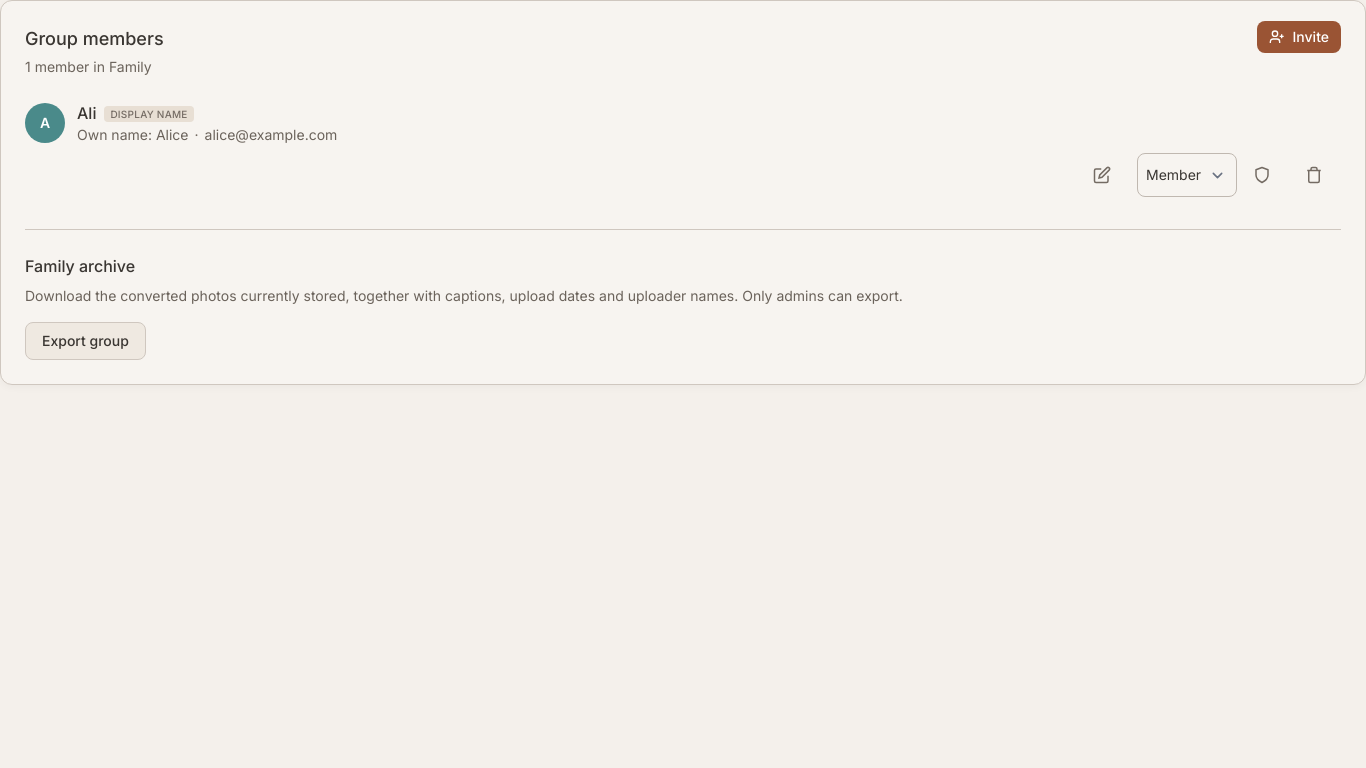
it: MembersList display names › clears the override from an empty field and restores the member’s own name
Check: the text "Ali" is shown, box [77,103,96,123]
Click the button named "Set Ali's display name in Family": (1107, 175) [1085,153,1129,197]
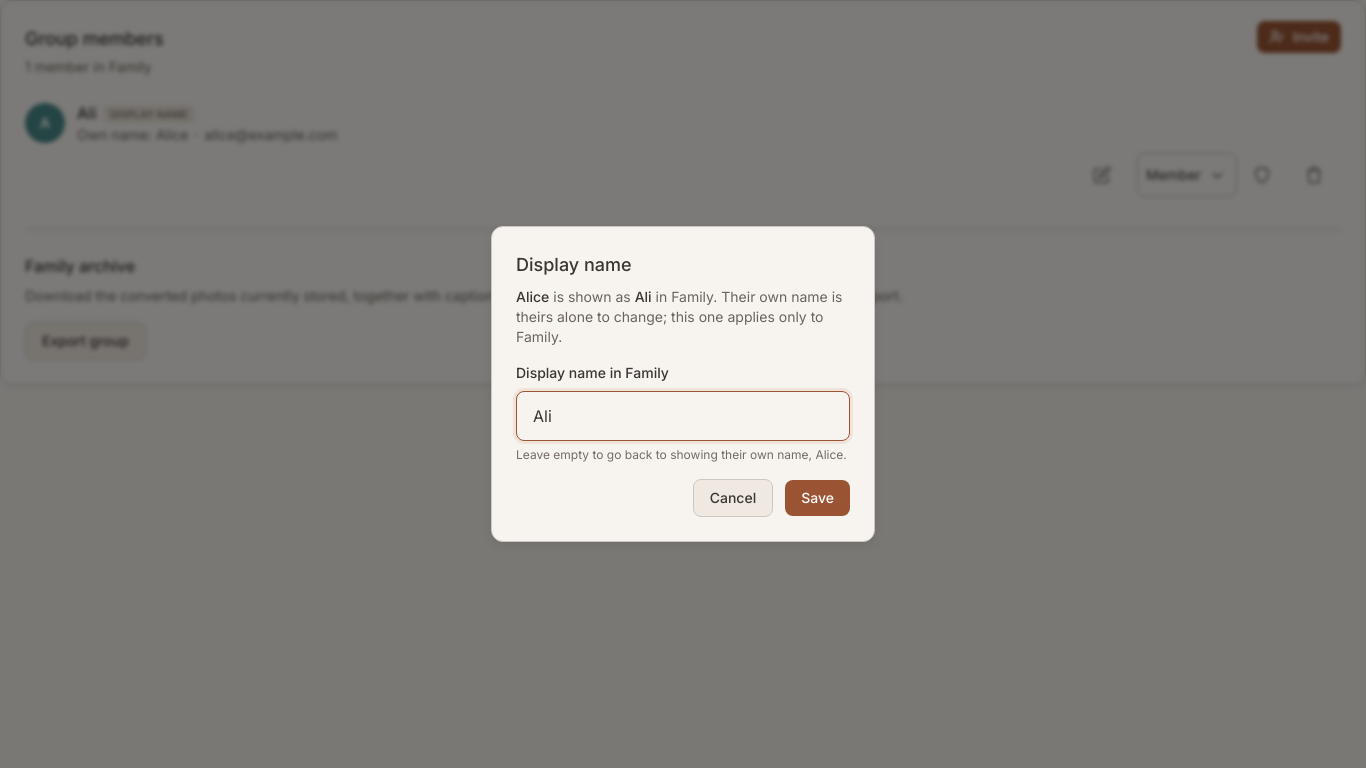
Clear the field labelled "Display name in Family": (683, 416) [516,391,850,441]
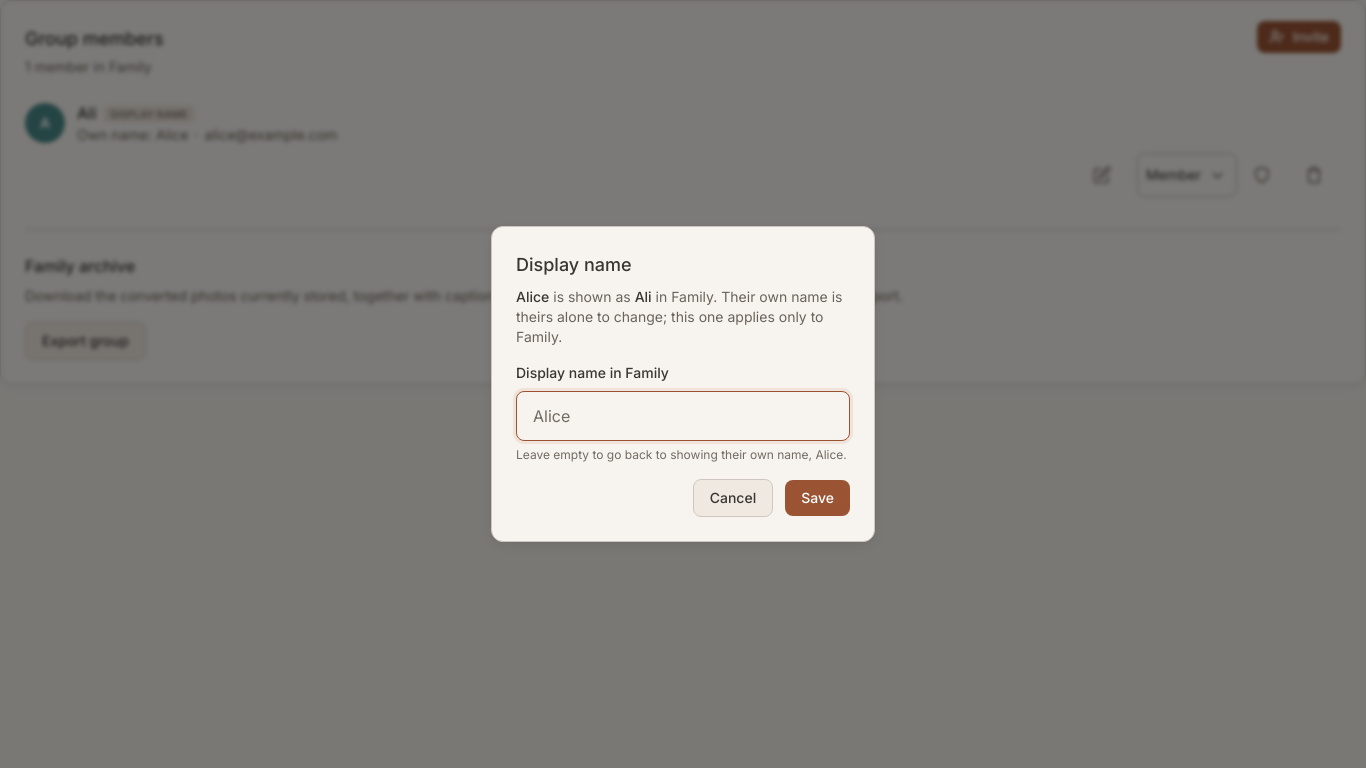
Check: the button "Save" is enabled
Click the button "Save": (818, 498) [785,480,850,516]
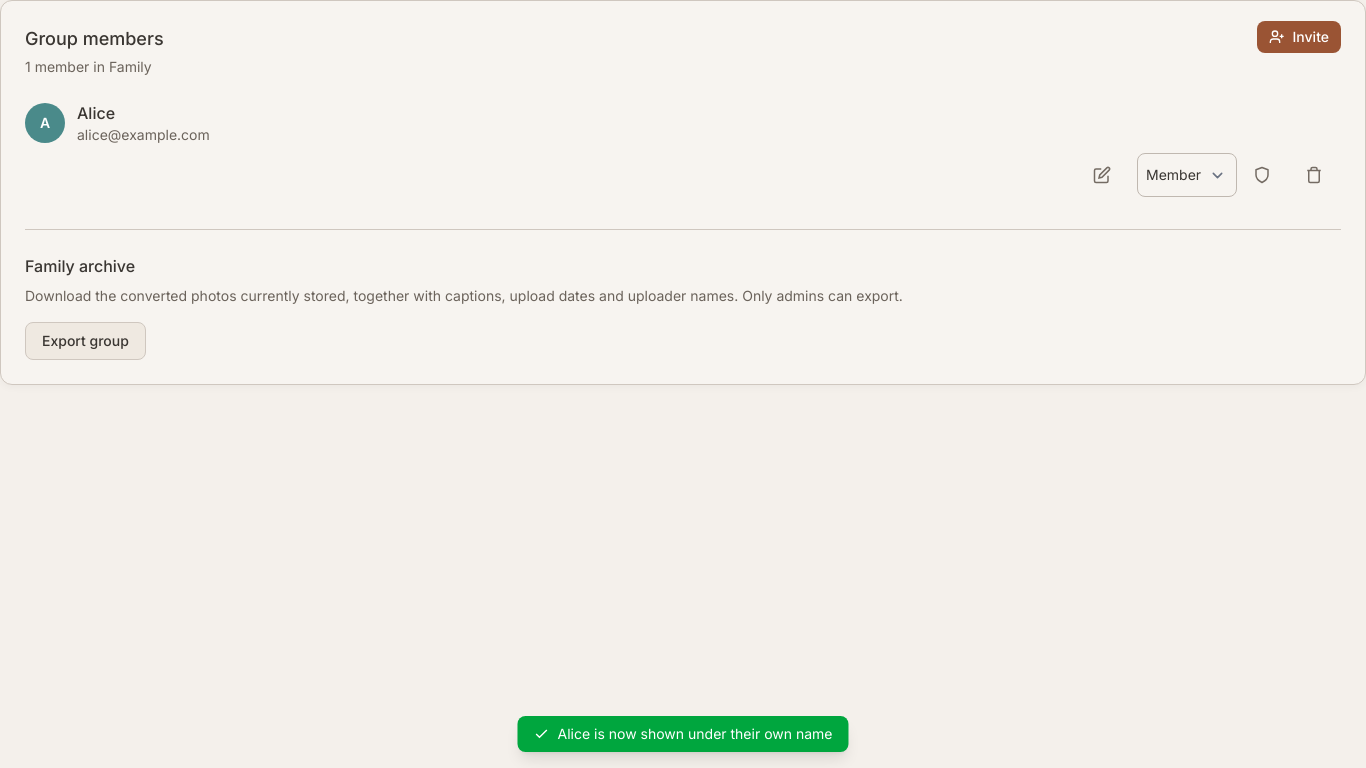
Check: the text "Alice" is shown, box [77,103,115,123]
Check: the heading "Display name" is gone
Check: the text "Own name: Alice" is gone
